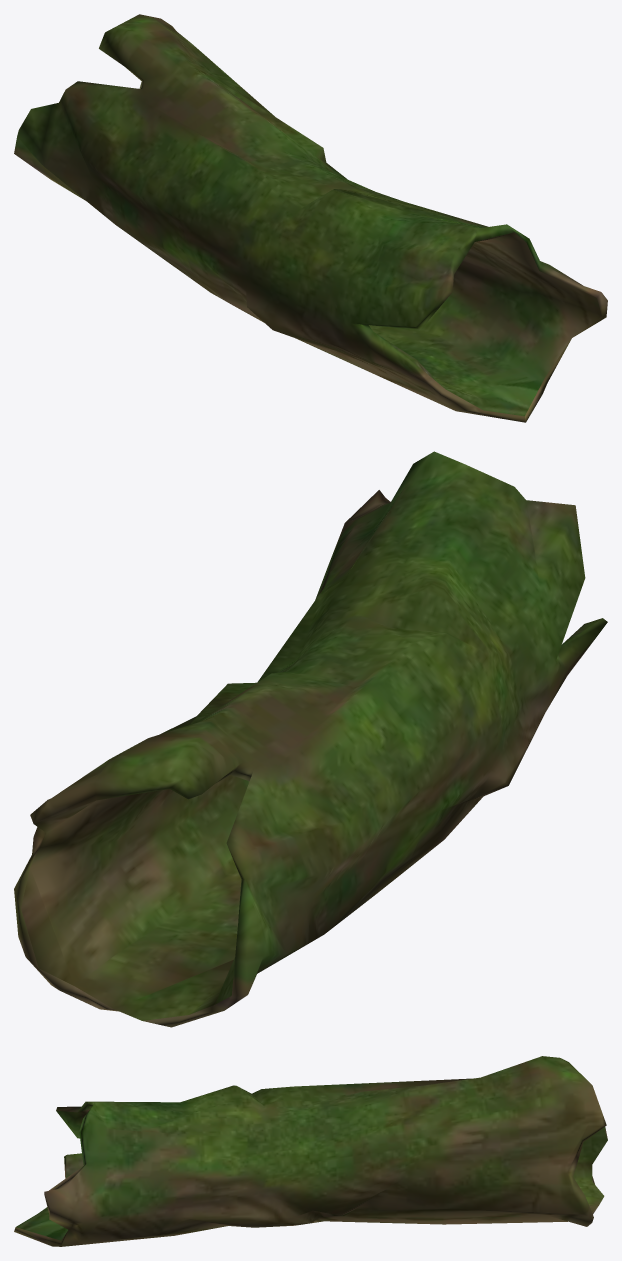
The model's file is rainforest-log-b.lod1.glb.
3 views of the same model, one above another, from view 1: azimuth 30°, elevation 25°; view 2: azimuth 150°, elevation 25°; view 3: azimuth 270°, elevation 25° (orthographic). The views are drawn at different scales.
Visible parts, largest first — view 1: SM_RainForest_TreeTrunk_B_LOD0.mo_MI_RainForest_TreeTrunk_B_; view 2: SM_RainForest_TreeTrunk_B_LOD0.mo_MI_RainForest_TreeTrunk_B_; view 3: SM_RainForest_TreeTrunk_B_LOD0.mo_MI_RainForest_TreeTrunk_B_.
Part boxes in pixels (x1=…): SM_RainForest_TreeTrunk_B_LOD0.mo_MI_RainForest_TreeTrunk_B_: x1=14, y1=14, x2=607, y2=422; SM_RainForest_TreeTrunk_B_LOD0.mo_MI_RainForest_TreeTrunk_B_: x1=14, y1=451, x2=607, y2=1027; SM_RainForest_TreeTrunk_B_LOD0.mo_MI_RainForest_TreeTrunk_B_: x1=14, y1=1056, x2=607, y2=1246.
Bounding box in the file's own units: 6.27 × 4.21 × 14.97.
1 material, 1 textured.
